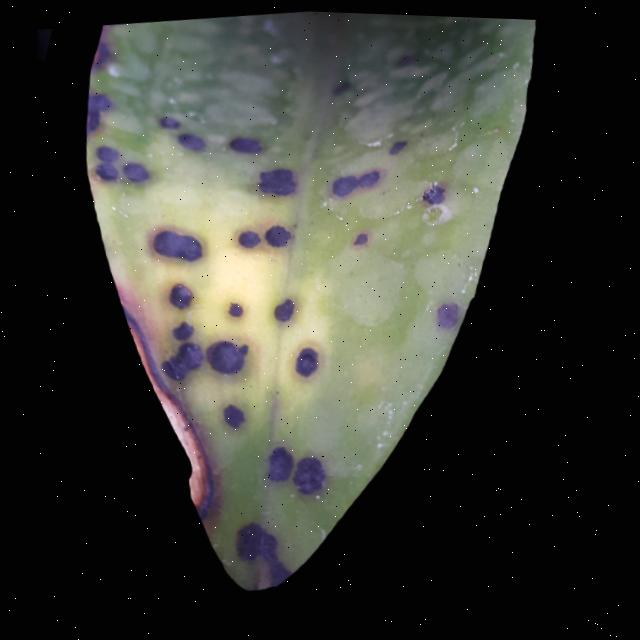mite: (163, 337, 208, 381), (290, 335, 332, 381), (208, 335, 254, 374), (257, 162, 300, 196), (238, 518, 271, 561), (269, 441, 300, 481), (296, 342, 324, 375), (229, 130, 265, 154), (170, 279, 198, 309), (265, 220, 295, 247), (177, 127, 208, 152), (225, 399, 251, 428), (123, 157, 152, 183), (274, 293, 300, 320), (173, 316, 199, 340), (238, 225, 264, 248)
